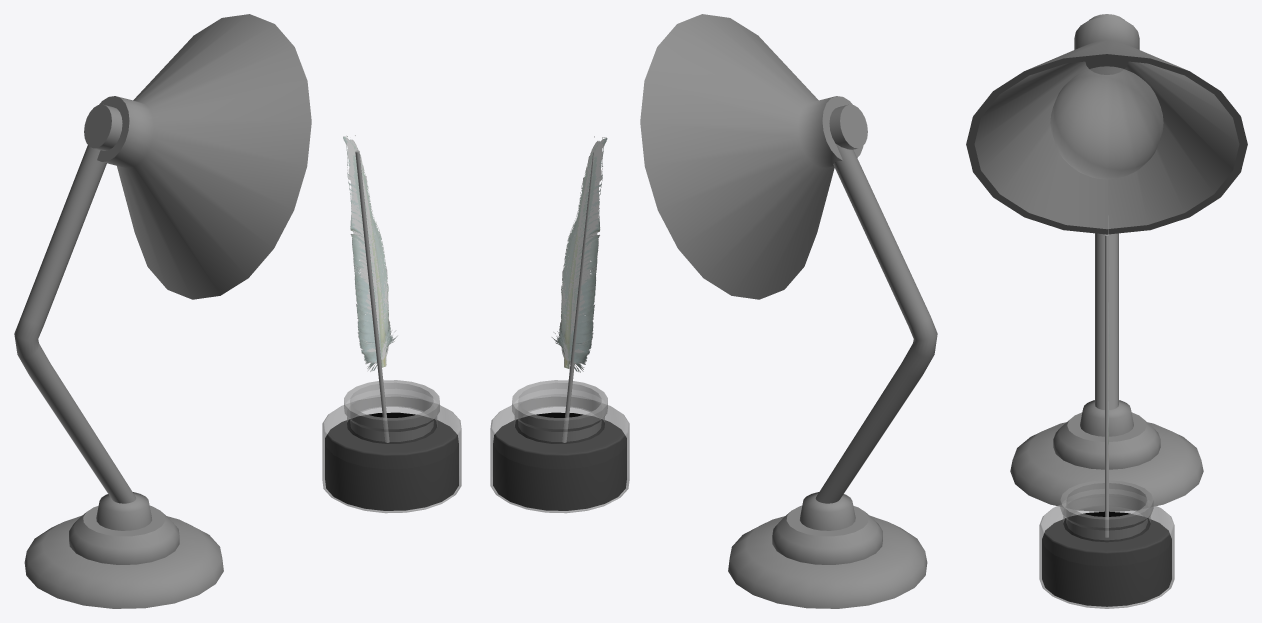
Rendered from TitleModel.fbx.
The picture shows the model from 3 angles, left to right: view 1: azimuth 30°, elevation 25°; view 2: azimuth 150°, elevation 25°; view 3: azimuth 270°, elevation 25°; orthographic projection. The views are drawn at different scales.
Parts seen in each view (by area): view 1: pCylinder6, pPlane2; view 2: pCylinder6, pPlane2; view 3: pCylinder6, pPlane2.
Boxes of the visible parts, x1=… form: pCylinder6: x1=14, y1=14, x2=311, y2=608; pPlane2: x1=322, y1=135, x2=461, y2=513; pCylinder6: x1=640, y1=14, x2=937, y2=608; pPlane2: x1=490, y1=136, x2=629, y2=513; pCylinder6: x1=966, y1=14, x2=1247, y2=511; pPlane2: x1=1039, y1=215, x2=1174, y2=608.
Size of the model in its own units: 7.2 by 7.97 by 4.17.
